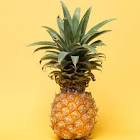Pineapple: (28, 1, 118, 140)
